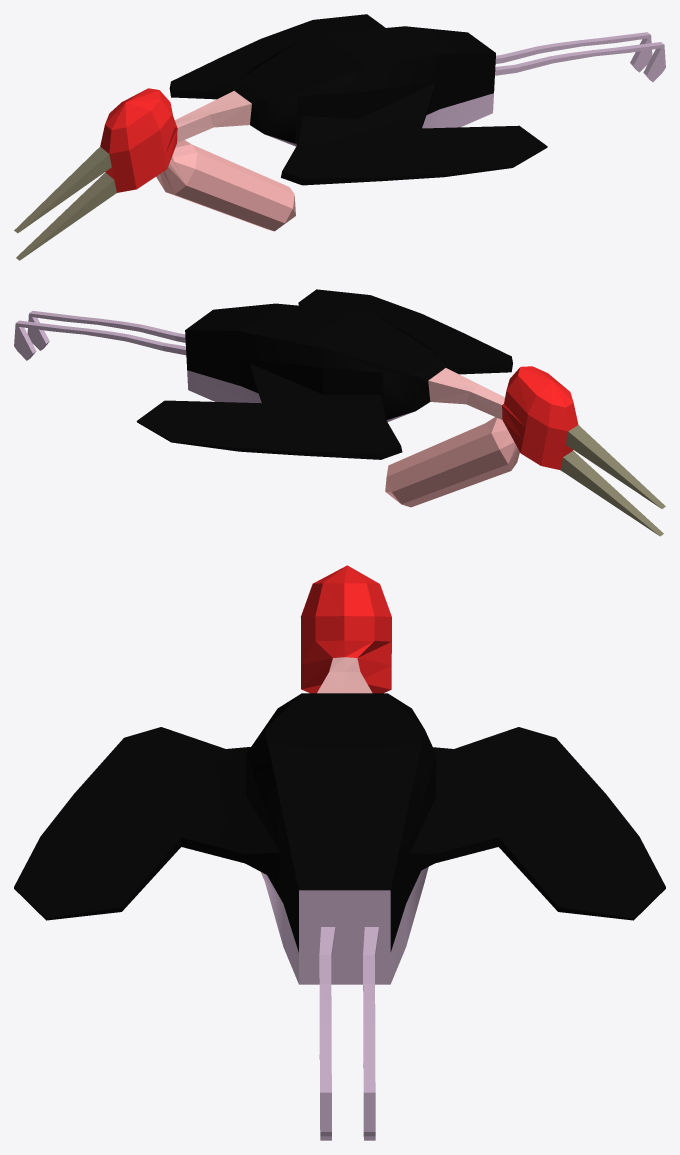
File: marabout_couleur (1).FBX
The picture shows the model from 3 angles, top to bottom: view 1: azimuth 30°, elevation 25°; view 2: azimuth 150°, elevation 25°; view 3: azimuth 270°, elevation 25°; orthographic projection. The views are drawn at different scales.
Parts seen in each view (by area): view 1: Object001; view 2: Object001; view 3: Object001.
Part boxes in pixels (<box>): Object001: <box>14,14,665,260</box>; Object001: <box>14,289,665,536</box>; Object001: <box>14,565,665,1140</box>.
Size of the model in its own units: 131 by 32.54 by 70.92.
